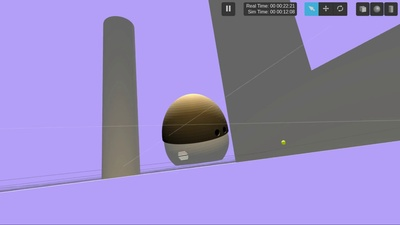mira_robot: (162, 93, 229, 166)
